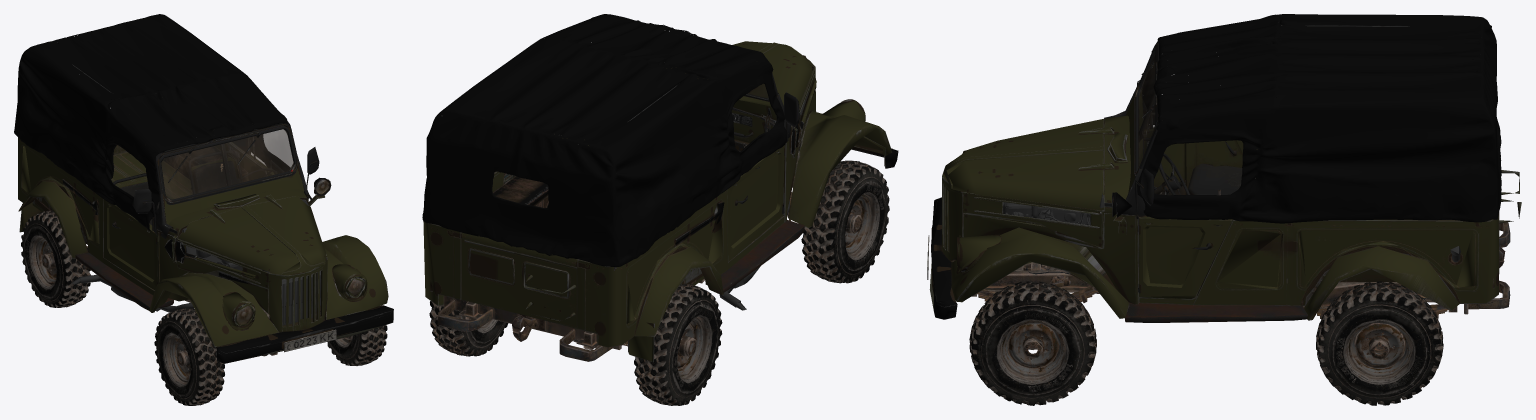
Rendered from gaz69.glb.
The picture shows the model from 3 angles, left to right: view 1: azimuth 30°, elevation 25°; view 2: azimuth 150°, elevation 25°; view 3: azimuth 270°, elevation 25°; orthographic projection. The views are drawn at different scales.
Parts seen in each view (by area): view 1: Merged; view 2: Merged; view 3: Merged.
Part boxes in pixels (x1,y1,x2,y2): Merged: [14, 14, 393, 405]; Merged: [422, 14, 898, 405]; Merged: [927, 14, 1521, 405].
Bounding box in the file's own units: 2.16 × 2.39 × 4.37.
9 materials, 6 textured.
